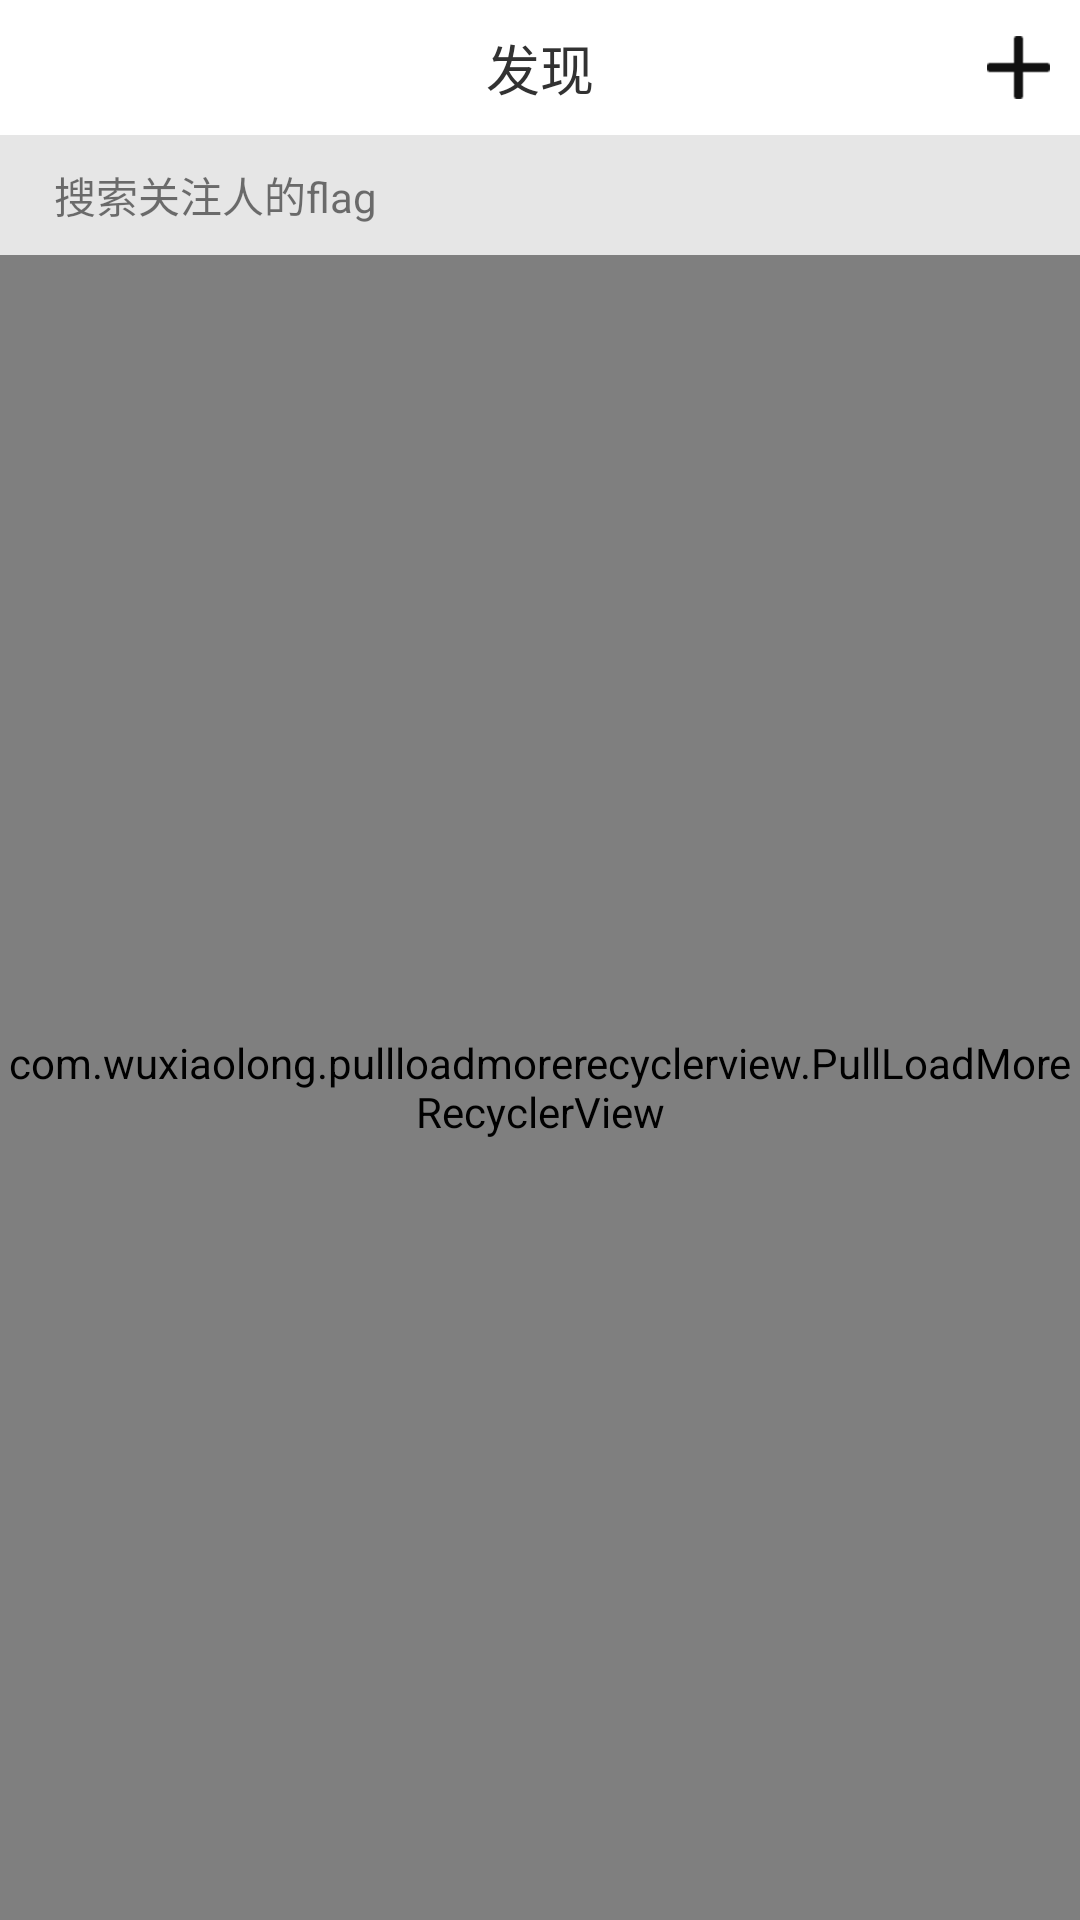

Where to tap for icons on this 1080 × 1920 app screen, as [x,y]:
fabujia: [1018,67]
